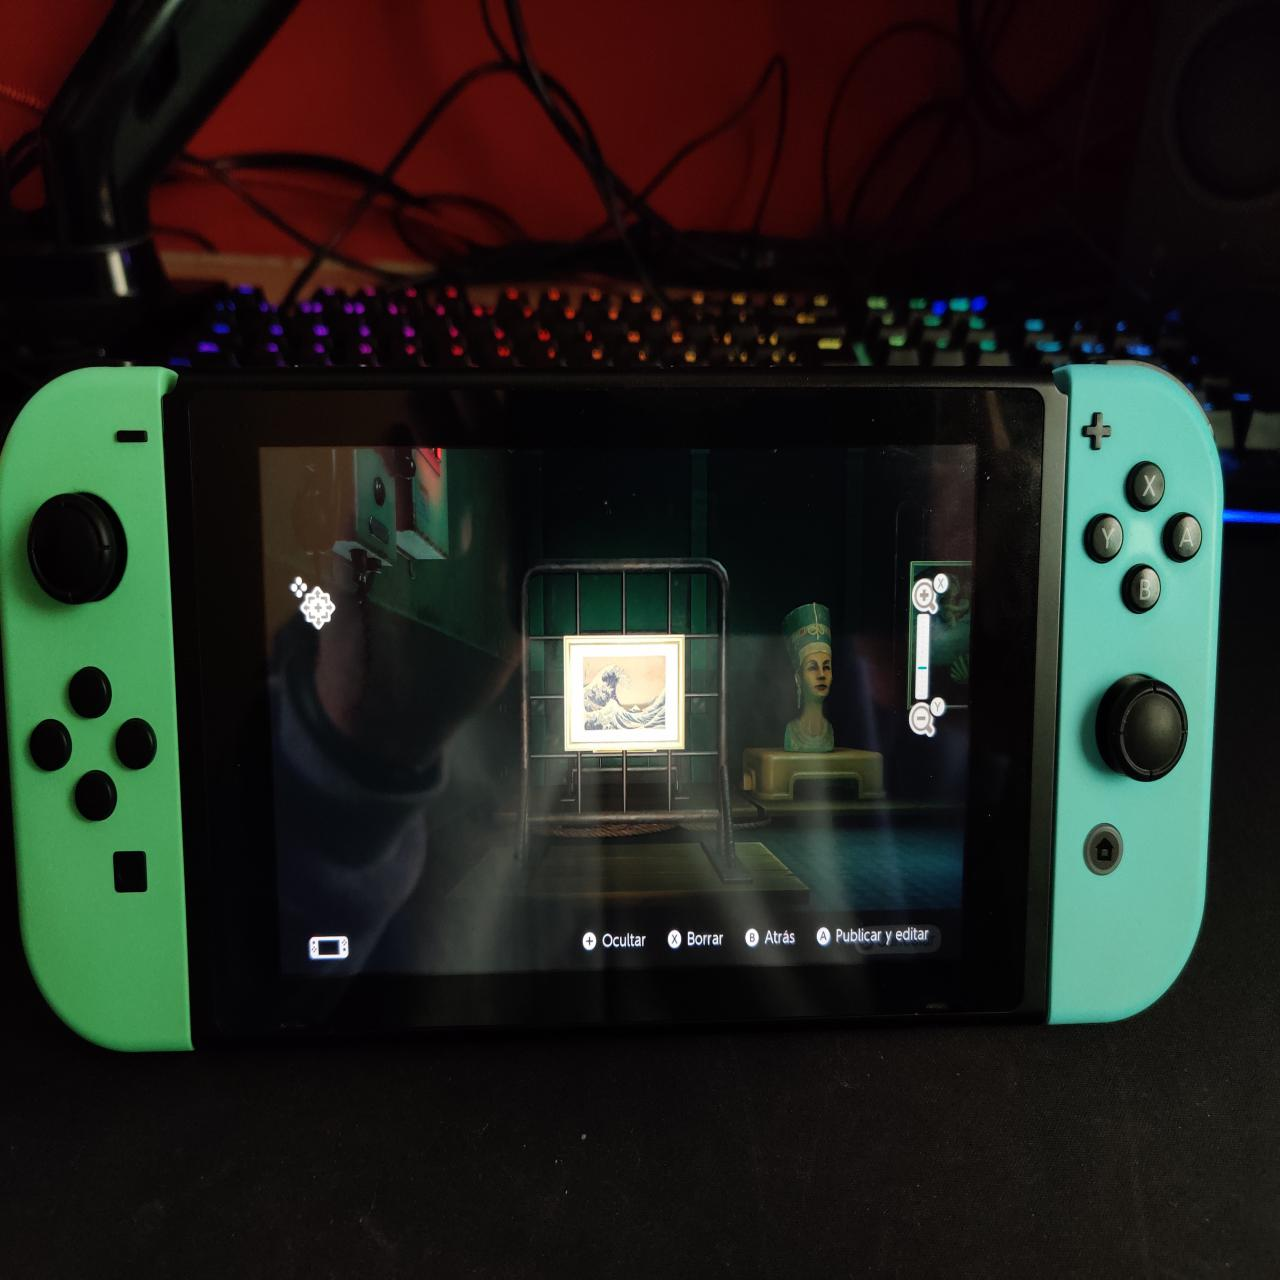Kanagawa: (586, 660, 669, 734)
NefertitiFake: (778, 597, 842, 756)
